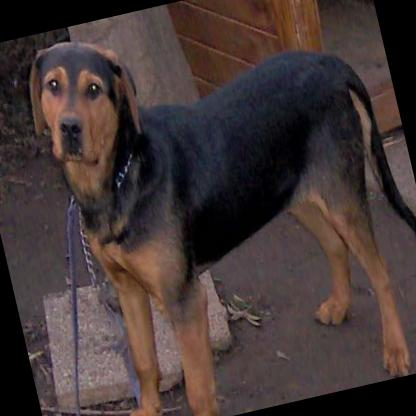Rottweiler: (15, 0, 416, 416)
